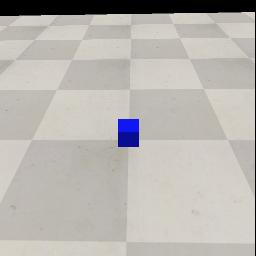box: (118, 119, 139, 147)
